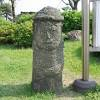Stone Statue: (28, 4, 70, 96)
